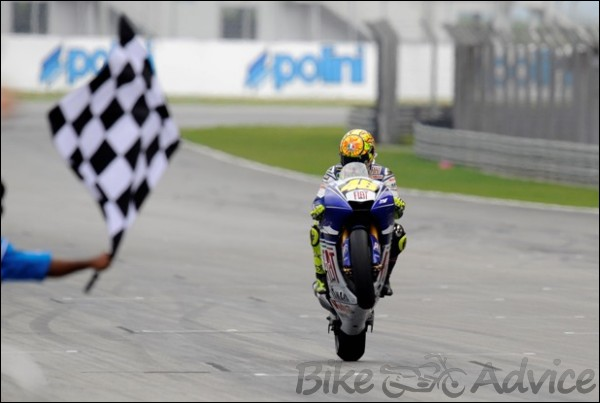Flag: (45, 5, 185, 256)
